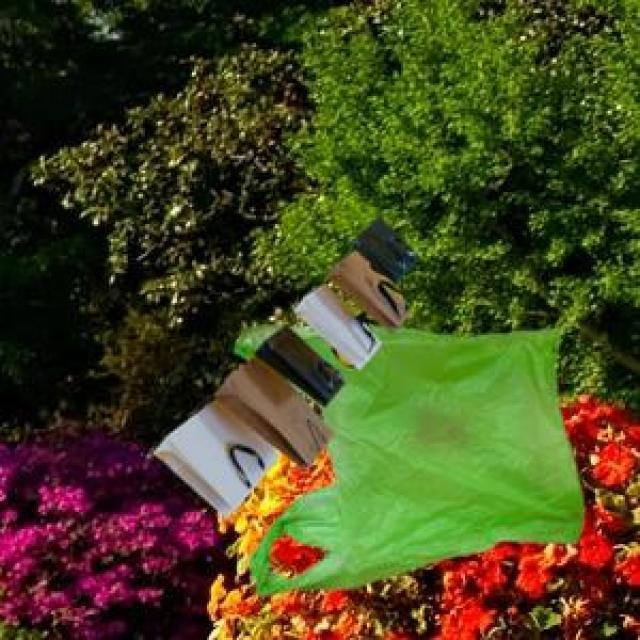paper: (149, 213, 414, 514)
